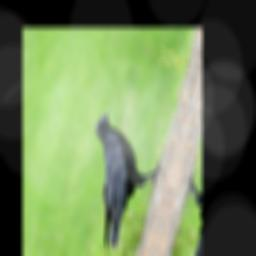Crow: (66, 108, 169, 256)
